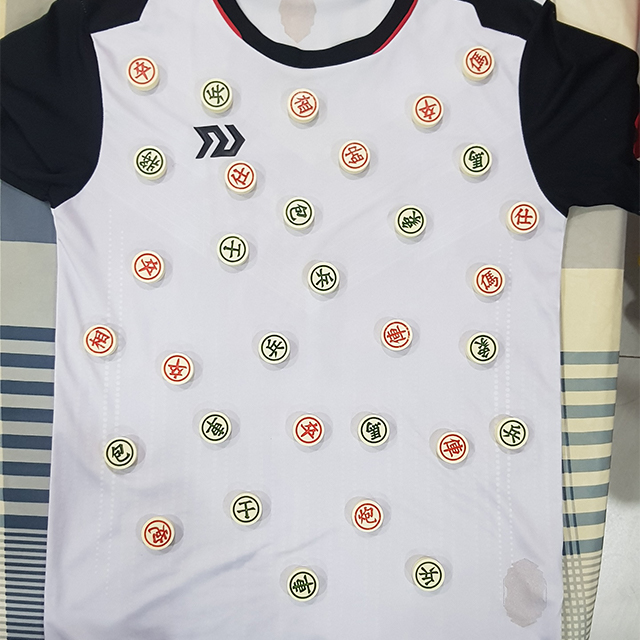Black-Cannon: (96, 426, 154, 484), (270, 184, 328, 242)
Black-Chariot: (272, 549, 330, 607), (188, 398, 245, 456)
Black-Elephant: (454, 321, 512, 379), (388, 196, 446, 253)
Black-General: (125, 132, 183, 190)
Black-Guard: (209, 222, 267, 280), (217, 480, 274, 538)
Black-Horse: (350, 406, 408, 464), (452, 134, 510, 192)
Black-Soldier: (300, 248, 358, 306), (248, 321, 306, 379), (398, 546, 456, 604), (488, 406, 546, 464), (196, 64, 253, 122)
Red-Cannon: (125, 501, 183, 559), (336, 489, 394, 547)
Red-Chariot: (371, 310, 429, 368), (424, 420, 482, 478)
Red-Elephant: (278, 78, 336, 136), (72, 315, 130, 373)
Red-General: (323, 130, 381, 188)
Red-Guard: (497, 190, 555, 248), (217, 149, 274, 207)
Red-Horse: (456, 36, 514, 94), (466, 255, 524, 313)
Red-Soldier: (120, 238, 178, 296), (149, 342, 207, 400), (114, 48, 172, 106), (284, 406, 342, 464), (404, 81, 462, 139)
